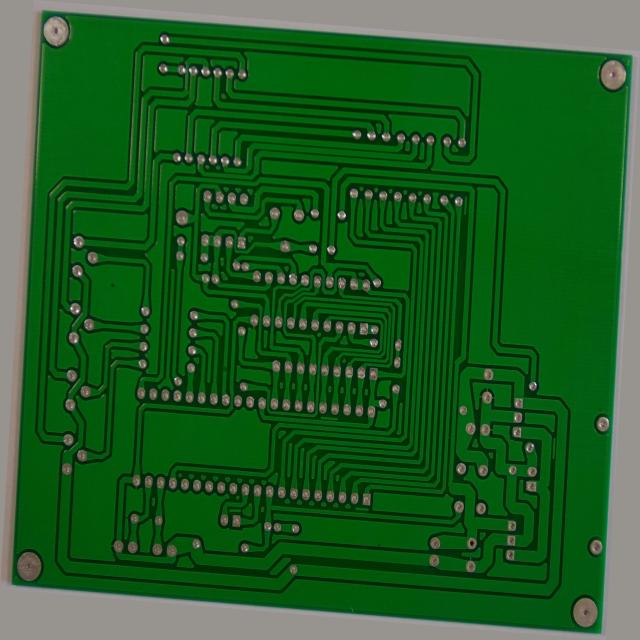spurious_copper: (568, 420, 579, 454), (324, 419, 347, 432), (461, 169, 471, 198), (365, 515, 385, 525), (234, 529, 250, 538)
